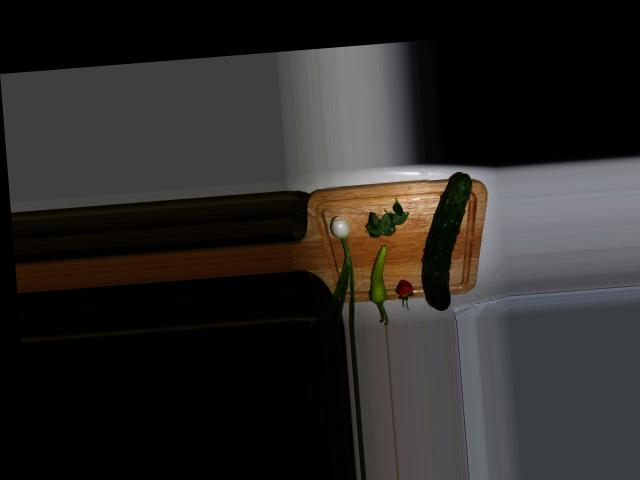cucumber: (415, 172, 482, 310)
